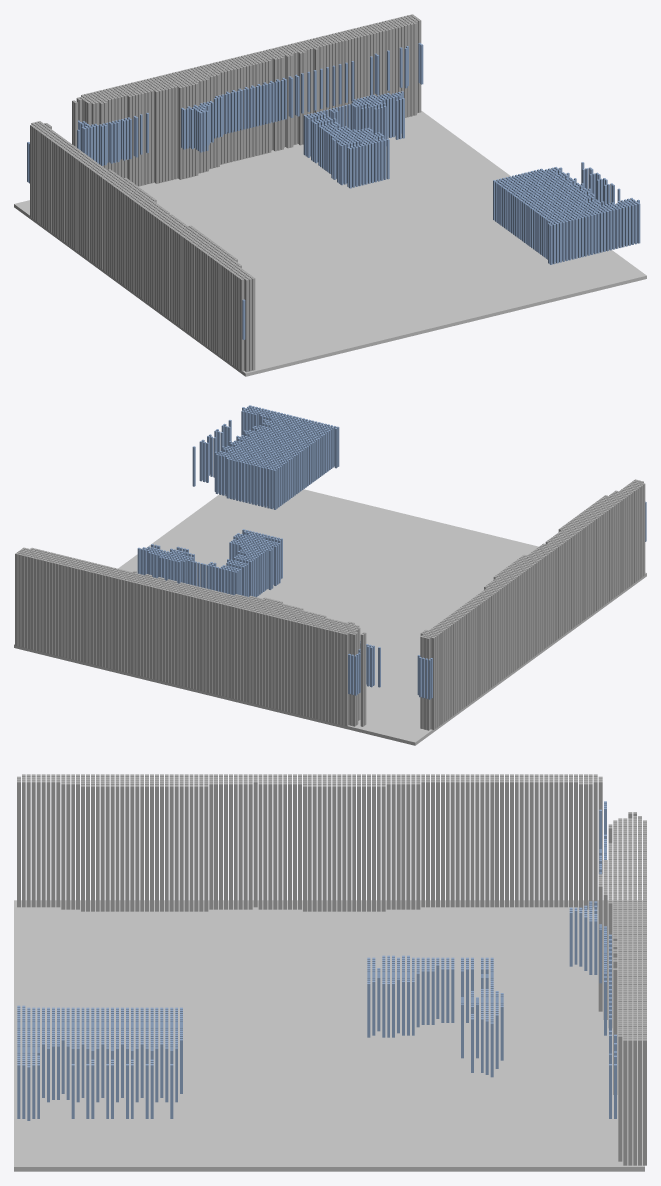
3 renders of one model, top to bottom at view 1: azimuth 30°, elevation 25°; view 2: azimuth 150°, elevation 25°; view 3: azimuth 270°, elevation 25°, orthographic. The views are drawn at different scales.
Parts seen in each view (by area): view 1: world; view 2: world; view 3: world.
Part boxes in pixels (x1=…): world: x1=14, y1=14, x2=646, y2=376; world: x1=14, y1=405, x2=646, y2=745; world: x1=14, y1=774, x2=646, y2=1171.
Size of the model in its own units: 12.84 by 2.9 by 12.84.
